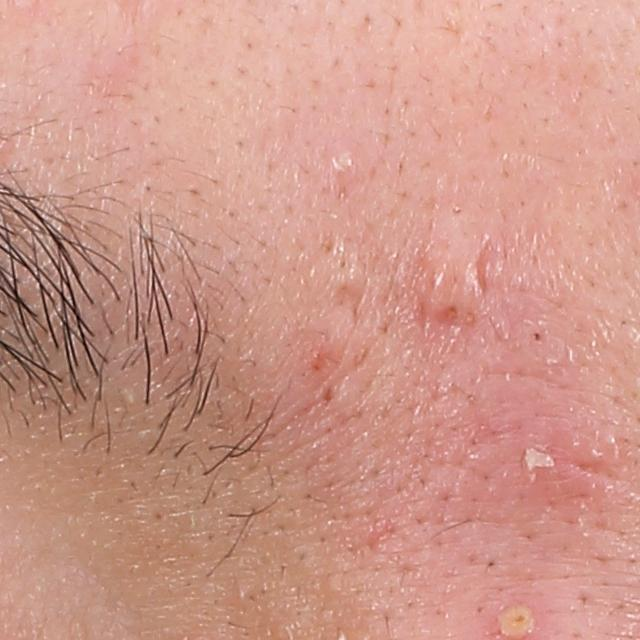atrophic_scar: (469, 233, 492, 303)
